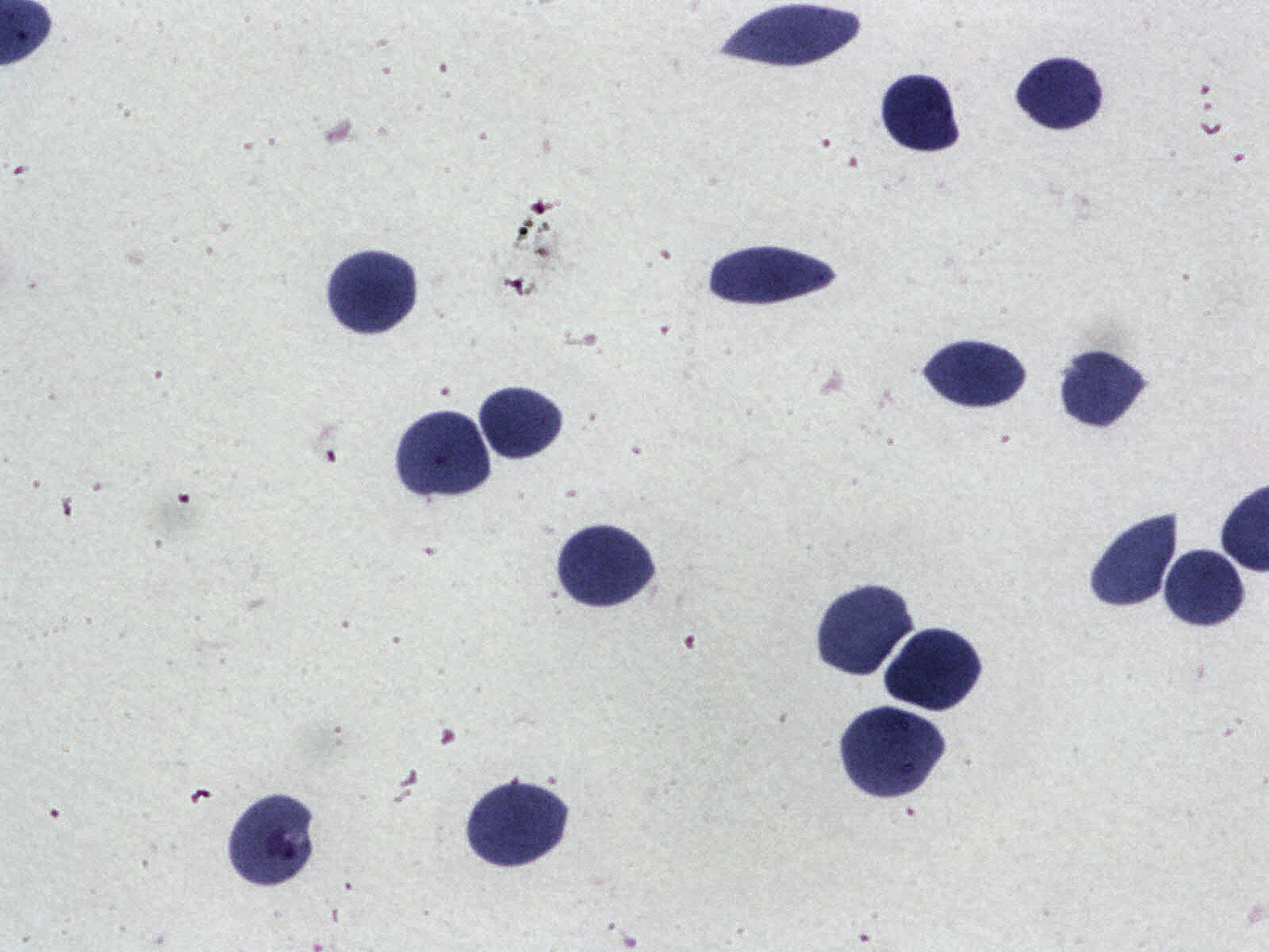Uninfected: (840, 704, 947, 803), (815, 582, 917, 682), (464, 776, 569, 871), (394, 408, 493, 505), (224, 792, 320, 892), (554, 520, 658, 612), (1092, 509, 1182, 612), (717, 4, 863, 67), (323, 246, 421, 339), (884, 626, 983, 716), (918, 336, 1030, 413), (708, 244, 838, 305), (1058, 345, 1149, 430), (1014, 52, 1106, 134), (475, 381, 564, 464), (1161, 546, 1248, 630), (879, 71, 960, 155)
